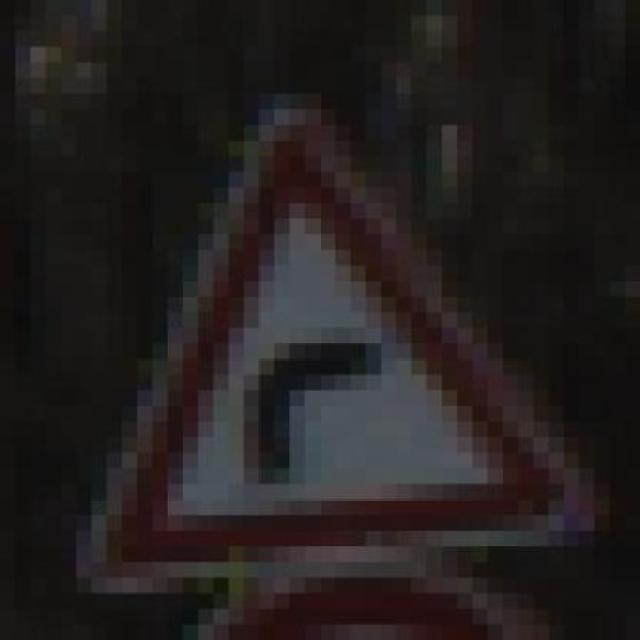Dangerous Rright Curve Ahead: (61, 93, 610, 593)
